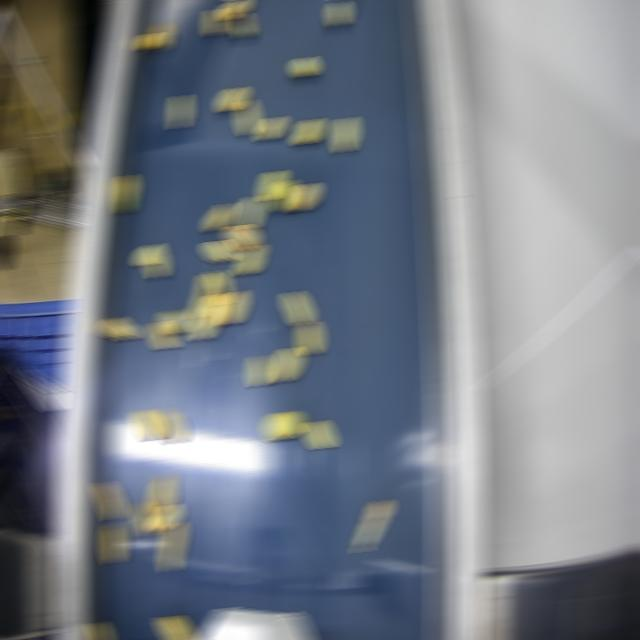Baby Potato: (358, 500, 389, 552), (194, 294, 223, 340), (156, 610, 194, 640), (192, 274, 217, 318), (162, 522, 183, 571), (266, 411, 301, 439), (96, 481, 121, 520), (137, 243, 164, 278), (275, 347, 300, 384), (285, 291, 310, 326), (133, 409, 162, 439), (151, 474, 172, 514), (157, 408, 182, 441), (221, 291, 244, 325), (239, 98, 259, 137), (227, 224, 256, 250), (237, 245, 262, 275), (151, 504, 178, 531), (292, 183, 317, 212), (207, 202, 232, 231), (104, 317, 135, 340), (105, 523, 122, 564), (307, 421, 332, 448), (274, 180, 295, 212), (242, 195, 261, 229), (118, 175, 135, 213), (209, 270, 228, 304), (262, 170, 283, 200), (295, 119, 320, 144), (206, 240, 233, 263), (153, 320, 174, 349), (220, 87, 245, 111), (161, 310, 186, 334), (337, 117, 354, 152), (138, 500, 155, 535), (302, 321, 319, 355), (260, 116, 283, 141), (251, 354, 268, 386), (152, 22, 169, 53), (222, 0, 247, 20), (173, 95, 188, 128), (294, 56, 315, 77), (330, 1, 347, 26), (208, 8, 223, 36), (236, 14, 251, 38), (139, 32, 158, 50), (90, 622, 109, 639)
